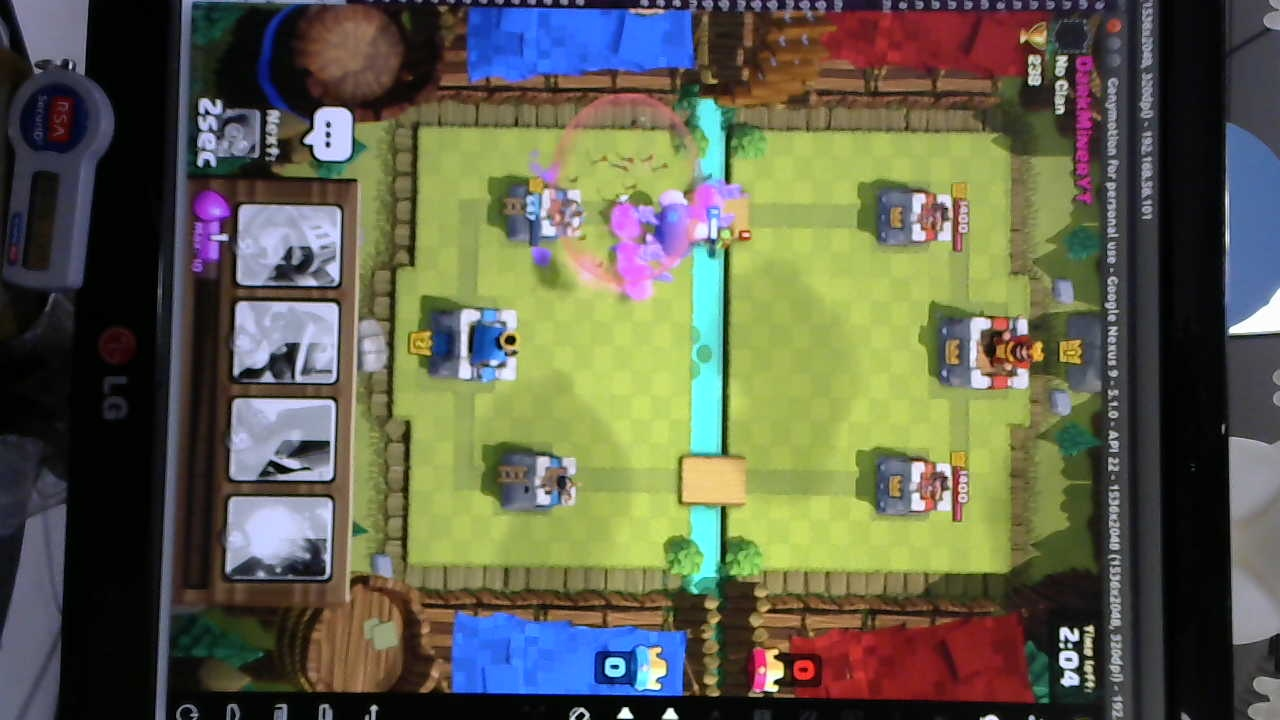arena: (493, 449, 579, 511), (505, 183, 589, 244)
earena: (872, 452, 954, 520), (874, 191, 953, 246)
eking: (934, 310, 1034, 393)
giant: (654, 188, 708, 266)
king: (429, 304, 523, 386)
speargoblin: (703, 223, 741, 264)
